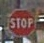stop: (6, 7, 35, 36)
